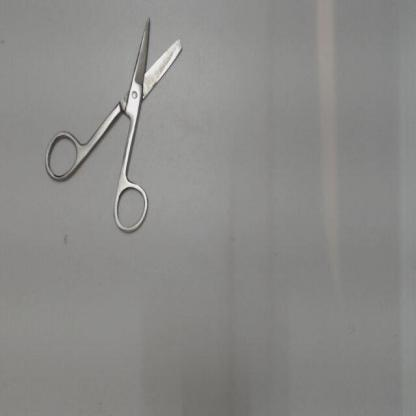Dressing Scissors: (36, 9, 194, 242)
